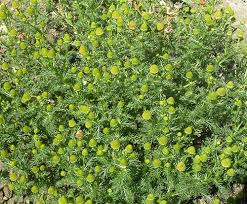pineple: (67, 82, 162, 157)
